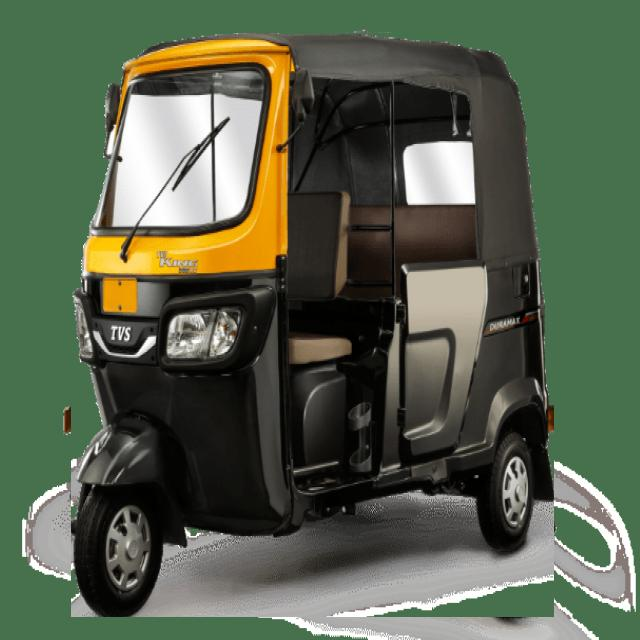autorickshaw: (71, 34, 554, 617)
